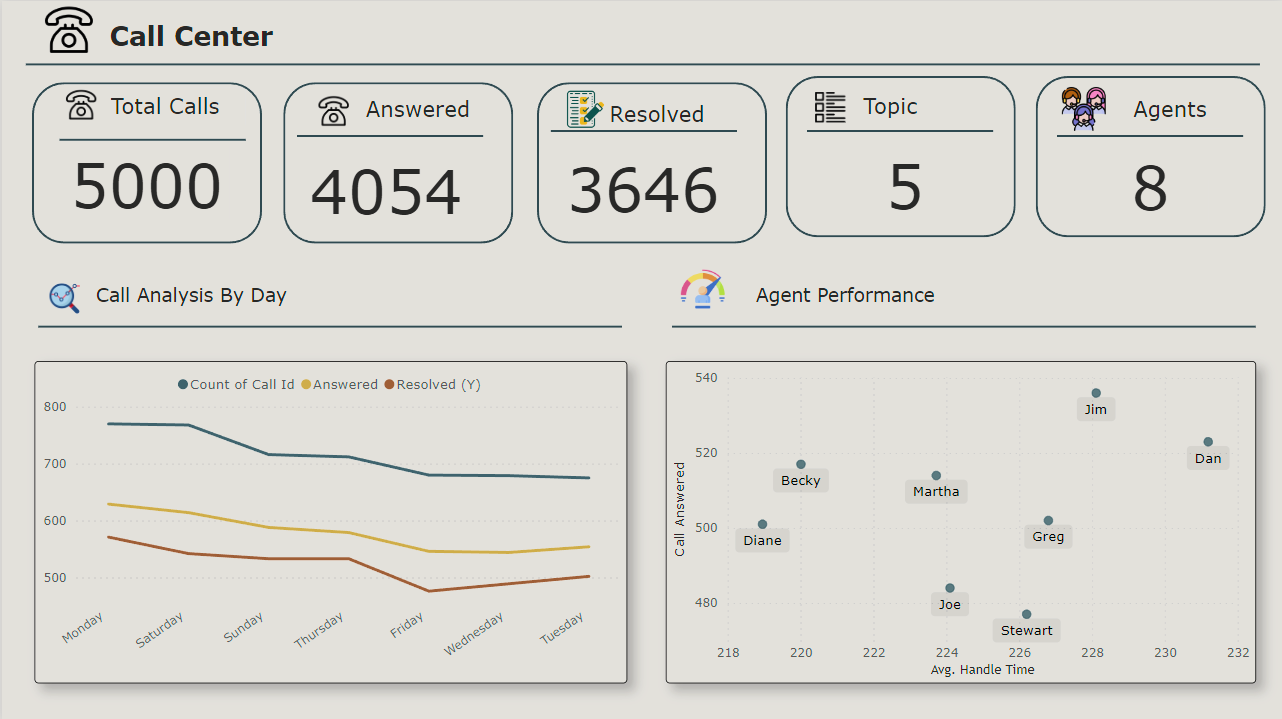

This screenshot's page, from the dashboard's own definition file:
{"tool":"powerbi","page":{"name":"Page 2","canvas":[1280,720],"ordinal":1},"visuals":[{"type":"scatterChart","fields":{"Category":["Sheet1.Agent"],"X":["Table.Average"],"Y":["Sheet1.Answered"]},"box":[663.8,360,590,322.5],"z":0},{"type":"image","box":[670,261.2,61.2,53.8],"z":1000},{"type":"textbox","box":[748.8,277.5,200,37.5],"z":2000},{"type":"shape","box":[670,315,583.8,21.2],"z":3000},{"type":"lineChart","fields":{"Y":["Sheet1.Call Id","Sheet1.Answered","Sheet1.Resolved (Y)"],"Category":["Sheet1.DayOfWeek"]},"box":[32.5,360,592.5,322.5],"z":4000},{"type":"shape","box":[36.2,315,583.8,21.2],"z":5000},{"type":"image","box":[36.2,277.5,52.5,40],"z":6000},{"type":"textbox","box":[88.8,277.5,217.5,35],"z":7000},{"type":"card","fields":{"Values":["Sheet1.Call Id"]},"box":[62.5,145,165,72.5],"z":8000},{"type":"textbox","box":[103.8,86.2,140,37.5],"z":9000},{"type":"shape","box":[30,81.2,230,161.2],"z":10000},{"type":"image","box":[48.8,83.8,60,40],"z":11000},{"type":"shape","box":[57.5,123.8,186.2,30],"z":12000},{"type":"shape","box":[281.2,81.2,230,161.2],"z":13000},{"type":"shape","box":[295,120,186.2,30],"z":14000},{"type":"textbox","box":[358.8,90,122.5,40],"z":15000},{"type":"image","box":[301.2,90,60,40],"z":16000},{"type":"card","fields":{"Values":["Sheet1.Answered"]},"box":[301.2,138.8,166.2,97.5],"z":17000},{"type":"shape","box":[535,81.2,230,161.2],"z":18000},{"type":"textbox","box":[602.5,95,122.5,40],"z":19000},{"type":"shape","box":[548.8,115,186.2,30],"z":20000},{"type":"image","box":[557.5,83.8,51.2,48.8],"z":21000},{"type":"card","fields":{"Values":["Sheet1.Resolved (Y)"]},"box":[557.5,153.8,167.5,63.8],"z":22000},{"type":"shape","box":[783.8,75,230,161.2],"z":23000},{"type":"shape","box":[805,115,186.2,30],"z":24000},{"type":"shape","box":[1033.8,75,230,161.2],"z":25000},{"type":"shape","box":[1055,120,186.2,30],"z":26000},{"type":"textbox","box":[856.2,86.2,92.5,38.8],"z":27000},{"type":"image","box":[807.5,86.2,41.2,40],"z":28000},{"type":"card","fields":{"Values":["Sheet1.Topic"]},"box":[866.2,141.2,73.8,81.2],"z":29000},{"type":"textbox","box":[1126.2,90,92.5,37.5],"z":30000},{"type":"image","box":[1055,78.8,53.8,58.8],"z":31000},{"type":"card","fields":{"Values":["Sheet1.Agent"]},"box":[1091.2,145,115,76.2],"z":32000},{"type":"shape","box":[24.1,54.3,1234.2,19.3],"z":33000},{"type":"textbox","box":[102.5,12.1,203.9,45.8],"z":34000},{"type":"image","box":[24.1,0,86.9,57.9],"z":35000}]}

Visuals, with their boxes in screenshot pixels (x1, y1, x2, y2), scaled from the page's 1280x720 canvas onto the 1282x719 screenshot:
scatterChart - Sheet1.Agent x Table.Average: 665, 360, 1256, 682
image: 671, 261, 732, 315
textbox: 750, 277, 950, 315
shape: 671, 315, 1256, 336
lineChart - Sheet1.Call Id x Sheet1.Answered: 33, 360, 626, 682
shape: 36, 315, 621, 336
image: 36, 277, 89, 317
textbox: 89, 277, 307, 312
card - Sheet1.Call Id: 63, 145, 228, 217
textbox: 104, 86, 244, 124
shape: 30, 81, 260, 242
image: 49, 84, 109, 124
shape: 58, 124, 244, 154
shape: 282, 81, 512, 242
shape: 295, 120, 482, 150
textbox: 359, 90, 482, 130
image: 302, 90, 362, 130
card - Sheet1.Answered: 302, 139, 468, 236
shape: 536, 81, 766, 242
textbox: 603, 95, 726, 135
shape: 550, 115, 736, 145
image: 558, 84, 610, 132
card - Sheet1.Resolved (Y): 558, 154, 726, 217
shape: 785, 75, 1015, 236
shape: 806, 115, 993, 145
shape: 1035, 75, 1266, 236
shape: 1057, 120, 1243, 150
textbox: 858, 86, 950, 125
image: 809, 86, 850, 126
card - Sheet1.Topic: 868, 141, 941, 222
textbox: 1128, 90, 1221, 127
image: 1057, 79, 1111, 137
card - Sheet1.Agent: 1093, 145, 1208, 221
shape: 24, 54, 1260, 73
textbox: 103, 12, 307, 58
image: 24, 0, 111, 58
